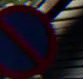No waiting: (0, 3, 57, 78)
